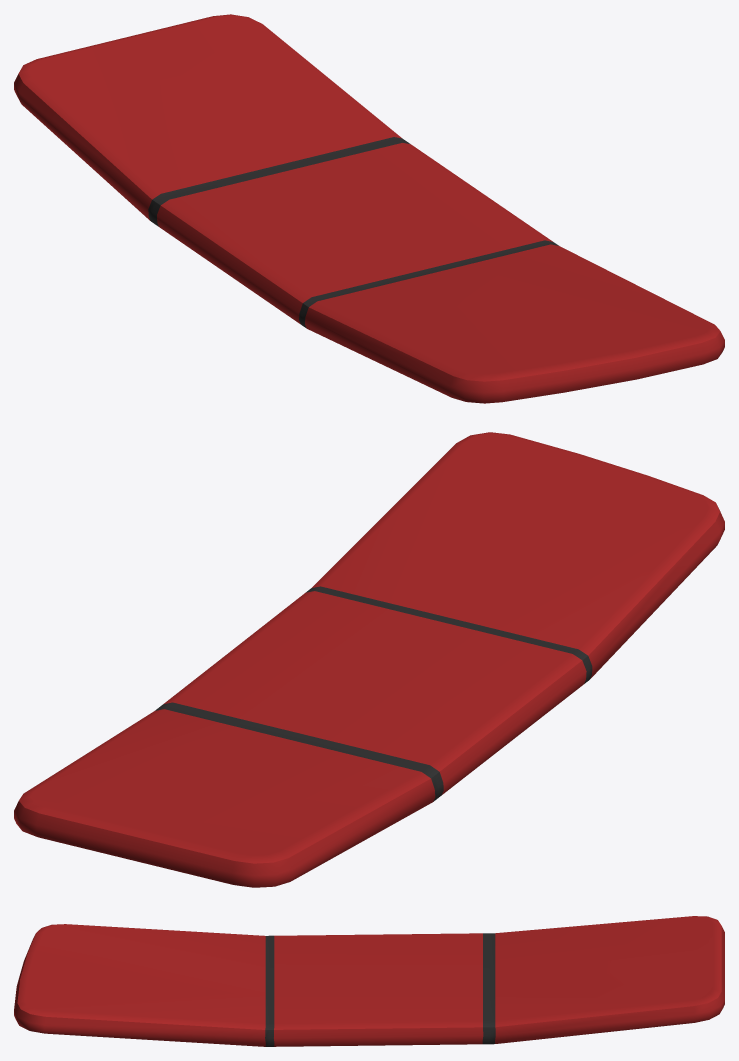
Rendered from SM_Wing_B_L.fbx.
3 renders of one model, top to bottom at view 1: azimuth 30°, elevation 25°; view 2: azimuth 150°, elevation 25°; view 3: azimuth 270°, elevation 25°, orthographic. The views are drawn at different scales.
Parts seen in each view (by area): view 1: SM_Wing_B_L; view 2: SM_Wing_B_L; view 3: SM_Wing_B_L.
Part boxes in pixels (x1,y1,x2,y2): SM_Wing_B_L: [14, 14, 724, 403]; SM_Wing_B_L: [14, 432, 724, 887]; SM_Wing_B_L: [14, 916, 724, 1046].
Size of the model in its own units: 2.08 by 6 by 0.3745.
